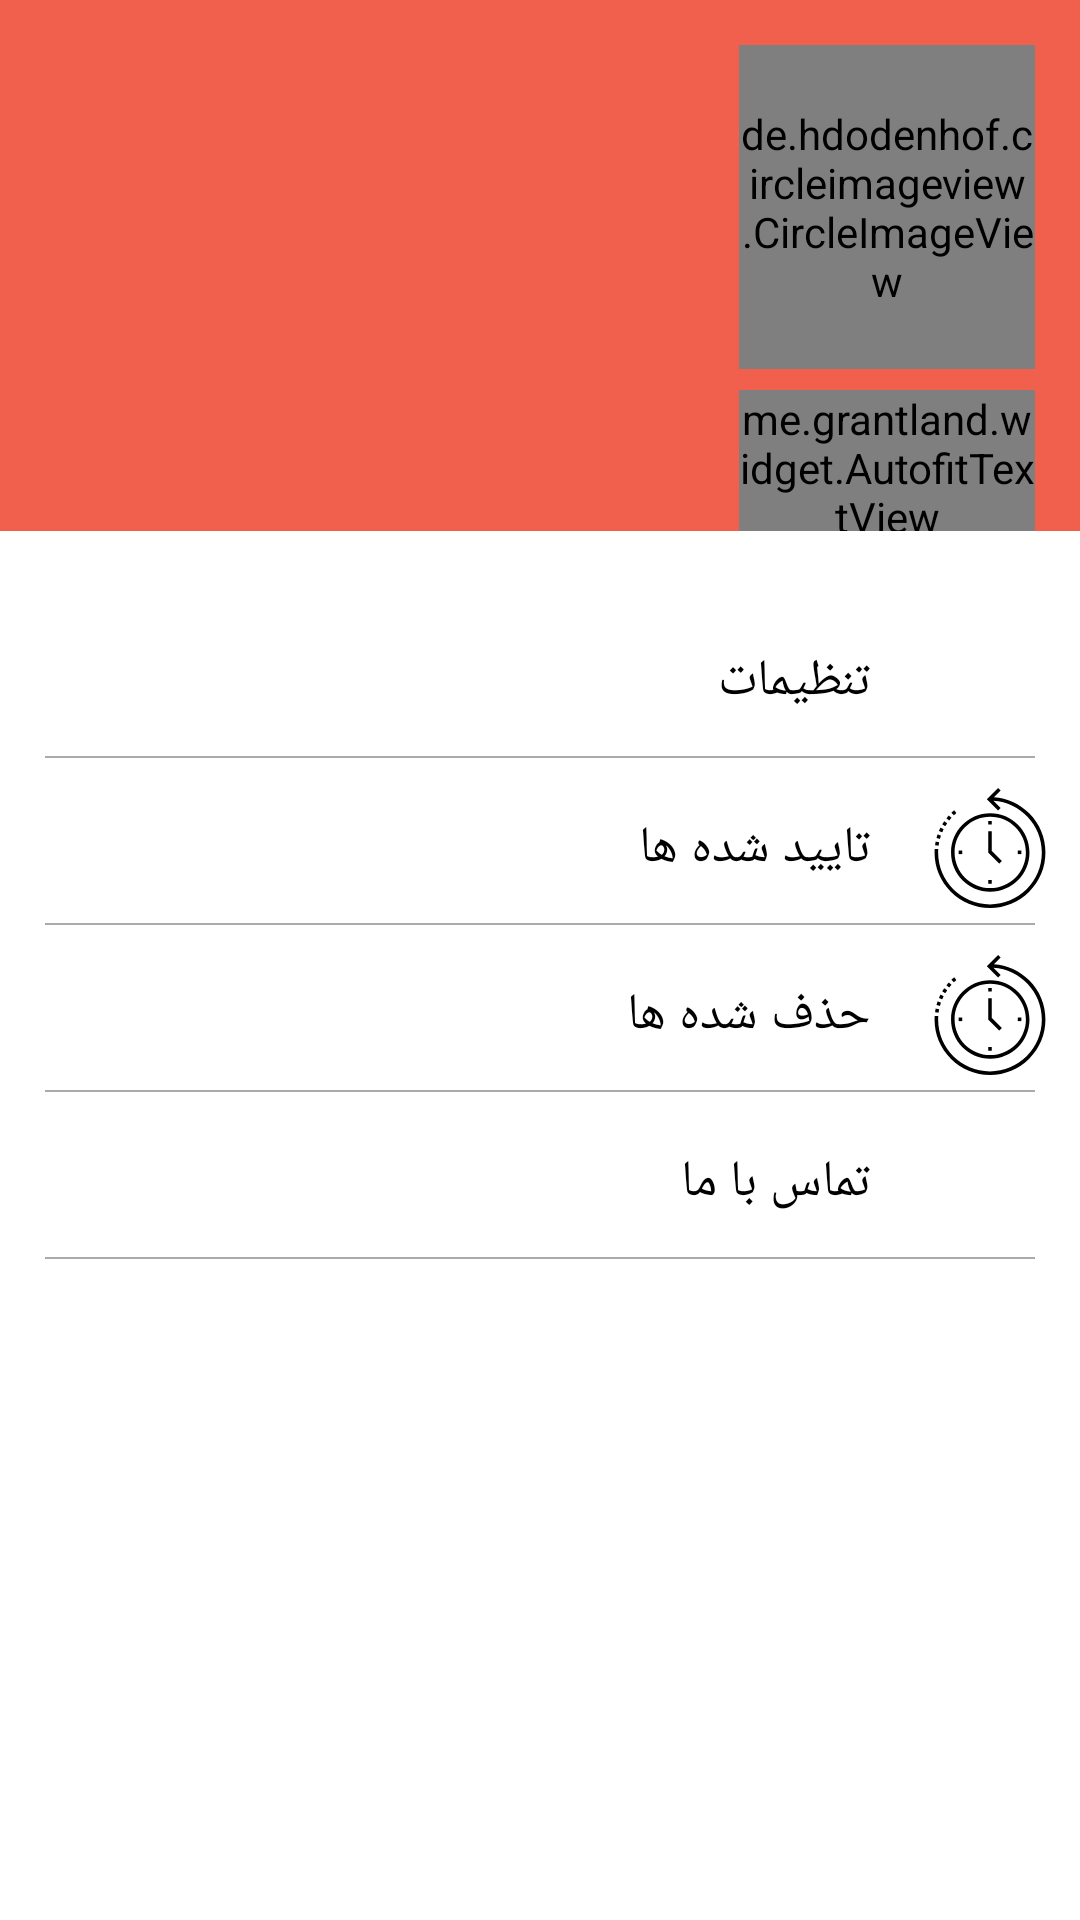

Where icons sit on this 1080x1920 app screen, as (x1, y1, x2, y2):
history: (934, 788, 1046, 908), (934, 955, 1046, 1075)
